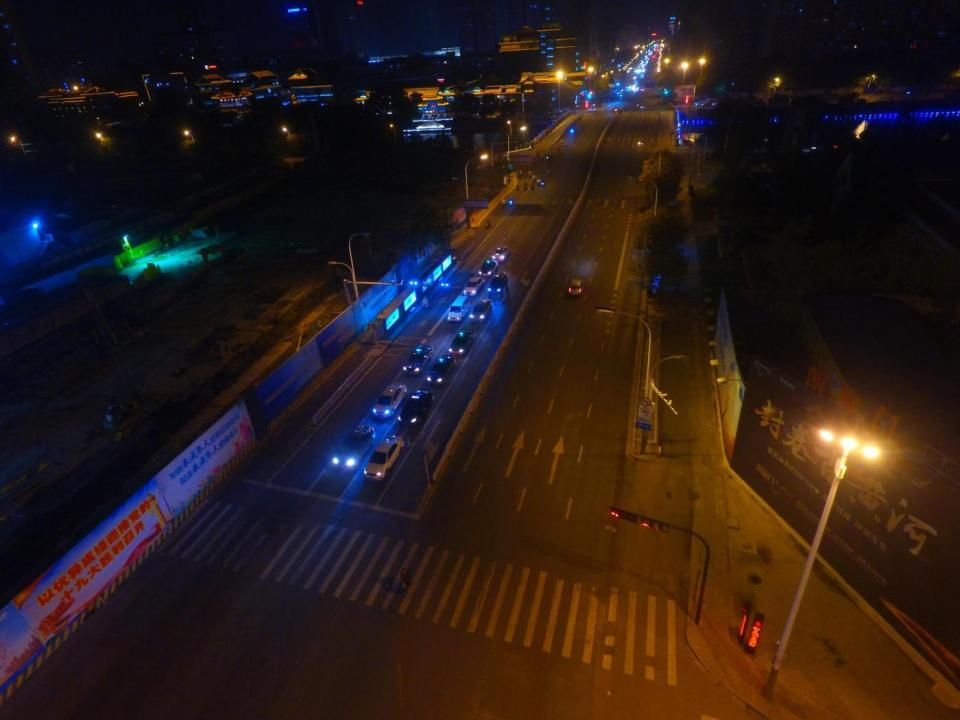car: (331, 425, 375, 469), (362, 435, 404, 480), (398, 388, 434, 425), (372, 382, 406, 418), (403, 345, 434, 373), (426, 354, 455, 383), (447, 329, 475, 355), (469, 297, 494, 322), (489, 271, 508, 295), (463, 276, 485, 295), (477, 258, 499, 276), (492, 246, 510, 264), (568, 278, 583, 296), (637, 137, 644, 147), (611, 107, 620, 112), (638, 104, 644, 110), (588, 108, 596, 111)
van: (447, 294, 471, 324)
